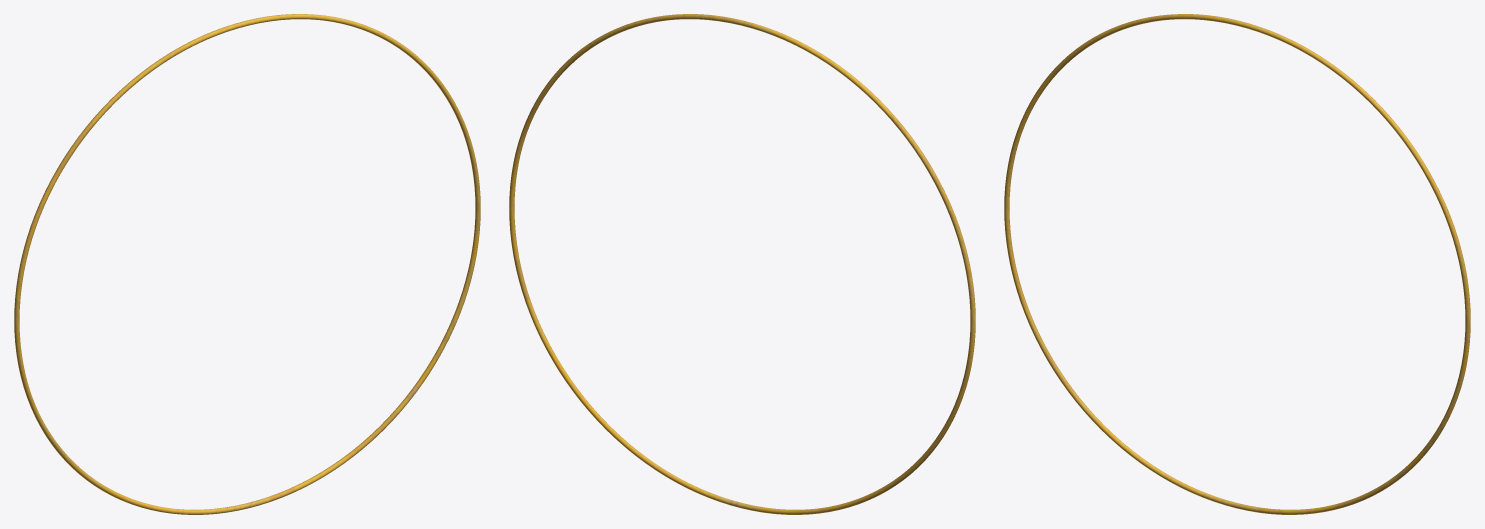
File: LRing_Gold.glb
3 views of the same model, side by side, from view 1: azimuth 30°, elevation 25°; view 2: azimuth 150°, elevation 25°; view 3: azimuth 330°, elevation 25° (orthographic).
Parts seen in each view (by area): view 1: RingS.obj; view 2: RingS.obj; view 3: RingS.obj.
Boxes of the visible parts, x1,y1,x2,y2 form: RingS.obj: (14, 14, 480, 514); RingS.obj: (509, 14, 975, 514); RingS.obj: (1004, 14, 1470, 514).
Size of the model in its own units: 7.95 by 7.95 by 0.0761.
Materials: 1 (1 with a texture image).
